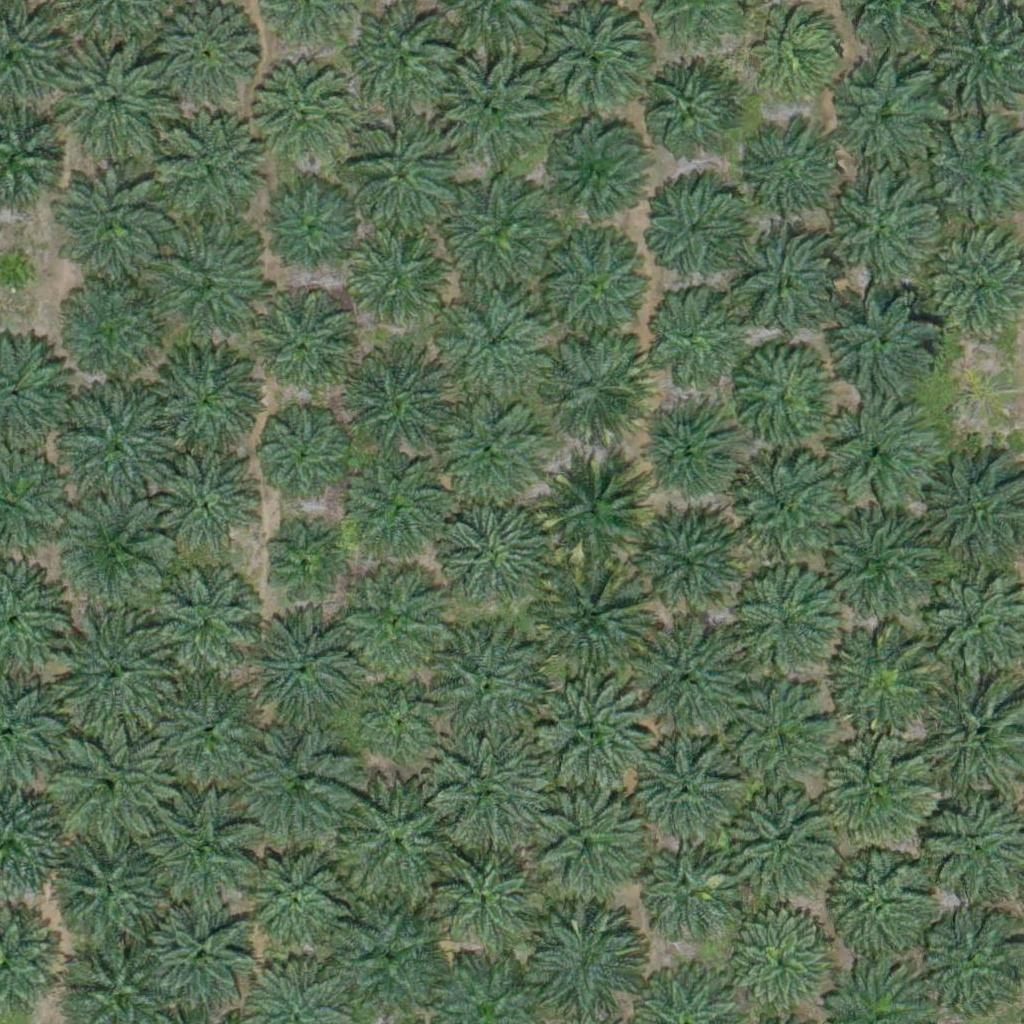Kelapa_Sawit: (56, 388, 181, 514), (49, 609, 174, 735), (45, 724, 170, 850), (341, 780, 466, 906), (427, 627, 552, 753), (432, 502, 545, 616), (343, 345, 456, 459), (150, 675, 263, 789), (147, 568, 260, 682), (342, 2, 455, 115), (823, 515, 936, 628), (728, 224, 841, 337), (729, 453, 842, 566), (345, 117, 458, 230), (58, 496, 171, 609), (146, 900, 259, 1013), (143, 796, 256, 909), (433, 732, 546, 845), (527, 909, 640, 1022), (530, 789, 643, 902), (535, 685, 648, 798), (146, 1, 258, 115), (150, 107, 262, 221), (151, 225, 263, 339), (59, 46, 171, 160), (57, 171, 169, 285), (242, 616, 354, 730), (244, 730, 356, 844), (332, 909, 444, 1023), (824, 401, 936, 514), (826, 284, 938, 397), (826, 176, 938, 289), (830, 58, 942, 171), (634, 512, 746, 625), (540, 231, 652, 344), (536, 331, 648, 444), (541, 456, 653, 569), (437, 286, 549, 399), (442, 184, 554, 297), (441, 50, 553, 163), (148, 340, 260, 453), (54, 838, 166, 951), (536, 561, 648, 674), (631, 621, 743, 734), (627, 730, 739, 843), (725, 907, 837, 1020), (726, 793, 838, 906), (735, 344, 835, 445), (640, 403, 740, 504), (643, 289, 743, 390), (647, 183, 747, 284), (645, 62, 745, 163), (550, 123, 650, 224), (250, 68, 350, 169), (157, 454, 257, 555), (62, 278, 162, 379), (344, 578, 444, 679), (637, 834, 737, 935), (725, 677, 825, 778), (735, 568, 835, 669), (835, 626, 935, 727), (827, 743, 927, 844), (830, 852, 930, 953), (922, 910, 1022, 1011), (441, 397, 541, 497), (347, 235, 447, 335), (349, 457, 449, 557), (243, 848, 343, 948), (436, 844, 536, 944), (260, 413, 348, 501), (262, 308, 350, 396), (749, 11, 836, 99), (748, 124, 835, 212), (270, 188, 357, 276), (263, 528, 338, 604), (365, 687, 440, 763)
